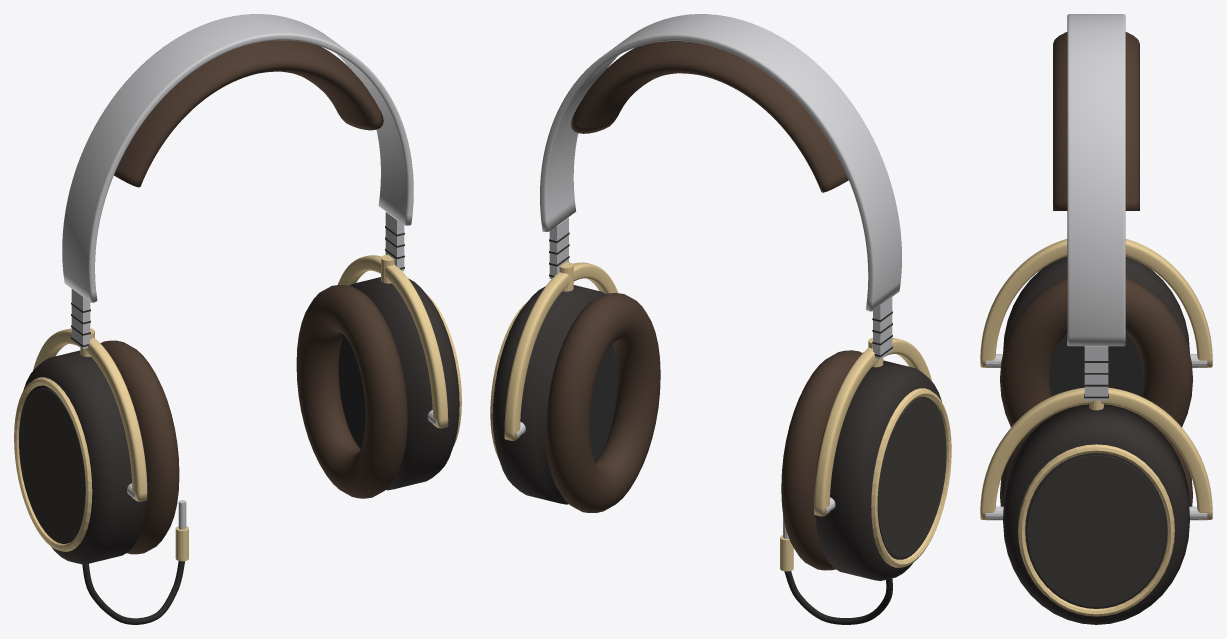
File: headphones.glb
The picture shows the model from 3 angles, left to right: view 1: azimuth 30°, elevation 25°; view 2: azimuth 150°, elevation 25°; view 3: azimuth 270°, elevation 25°; orthographic projection. The views are drawn at different scales.
Visible parts, largest first — view 1: Band, Pad1, Cushion, Cup-1, Cup1, Grille-1, Pad-1, Yoke1, Yoke-1, Rim-1, PadFabric1, Cable (+2 smaller); view 2: Band, Pad1, Cushion, Cup-1, Cup1, Grille-1, Pad-1, Yoke1, Yoke-1, Rim-1, PadFabric1, Cable (+2 smaller); view 3: Band, Grille1, Cup1, Pad-1, Yoke1, Cushion, Yoke-1, Rim1, PadFabric-1, Cup-1, Slider1, Pad1.
Part boxes in pixels (bbox=[...]): Band: bbox=[62, 14, 413, 302]; Pad1: bbox=[296, 285, 407, 498]; Cushion: bbox=[114, 40, 383, 187]; Cup-1: bbox=[19, 350, 146, 564]; Cup1: bbox=[350, 277, 459, 490]; Grille-1: bbox=[19, 388, 85, 541]; Pad-1: bbox=[100, 340, 179, 554]; Yoke1: bbox=[337, 255, 448, 428]; Yoke-1: bbox=[33, 328, 147, 501]; Rim-1: bbox=[14, 377, 92, 551]; PadFabric1: bbox=[338, 335, 365, 448]; Cable: bbox=[82, 561, 184, 624]; Band: bbox=[540, 14, 901, 311]; Pad1: bbox=[546, 293, 660, 512]; Cushion: bbox=[571, 41, 848, 192]; Cup-1: bbox=[815, 360, 946, 580]; Cup1: bbox=[492, 285, 605, 504]; Grille-1: bbox=[877, 399, 946, 557]; Pad-1: bbox=[781, 350, 862, 570]; Yoke1: bbox=[504, 262, 618, 440]; Yoke-1: bbox=[814, 338, 931, 516]; Rim-1: bbox=[871, 388, 951, 567]; PadFabric1: bbox=[589, 344, 617, 461]; Cable: bbox=[784, 571, 892, 624]; Band: bbox=[1067, 14, 1125, 346]; Grille1: bbox=[1027, 455, 1165, 606]; Cup1: bbox=[1003, 404, 1189, 624]; Pad-1: bbox=[1000, 278, 1192, 426]; Yoke1: bbox=[980, 387, 1212, 519]; Cushion: bbox=[1053, 32, 1139, 210]; Yoke-1: bbox=[980, 239, 1212, 367]; Rim1: bbox=[1018, 444, 1174, 616]; PadFabric-1: bbox=[1049, 333, 1143, 396]; Cup-1: bbox=[1003, 256, 1189, 353]; Slider1: bbox=[1084, 346, 1108, 400]; Pad1: bbox=[1000, 404, 1192, 506].
Size of the model in its own units: 0.2075 by 0.2966 by 0.1069.
